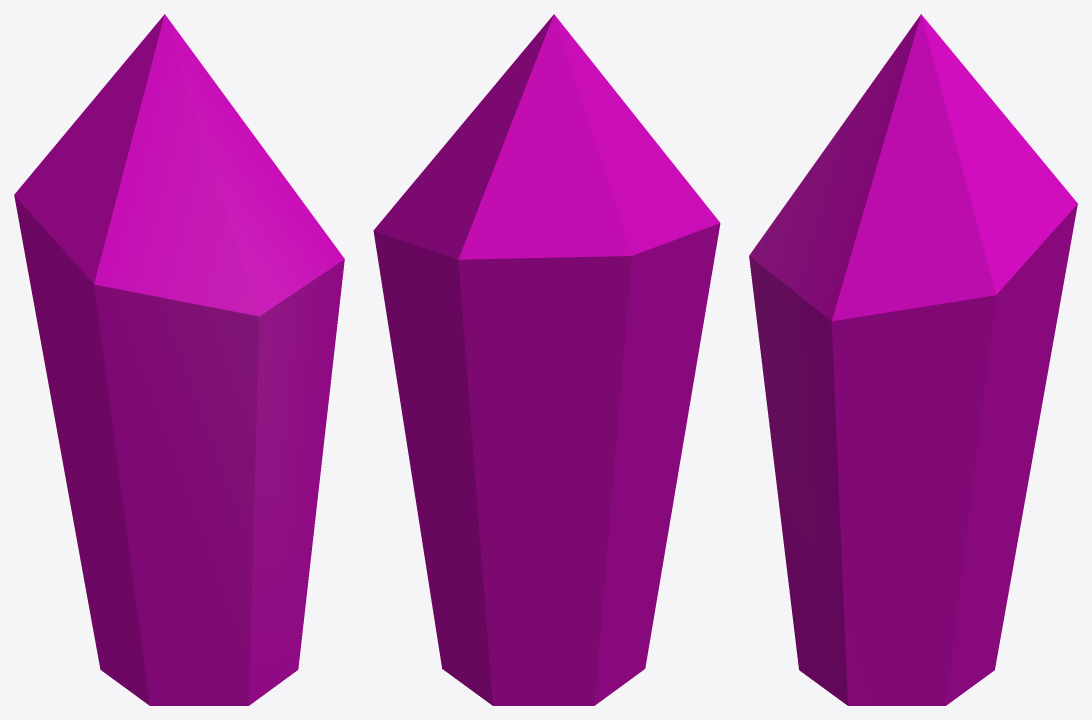
File: Tidal_crystal_01.fbx
The picture shows the model from 3 angles, left to right: view 1: azimuth 30°, elevation 25°; view 2: azimuth 150°, elevation 25°; view 3: azimuth 270°, elevation 25°; orthographic projection. The views are drawn at different scales.
Parts seen in each view (by area): view 1: crystal; view 2: crystal; view 3: crystal.
Part boxes in pixels (bbox=[...]): crystal: bbox=[14, 14, 344, 705]; crystal: bbox=[373, 14, 720, 705]; crystal: bbox=[749, 14, 1077, 705].
Size of the model in its own units: 297 by 727 by 336.
